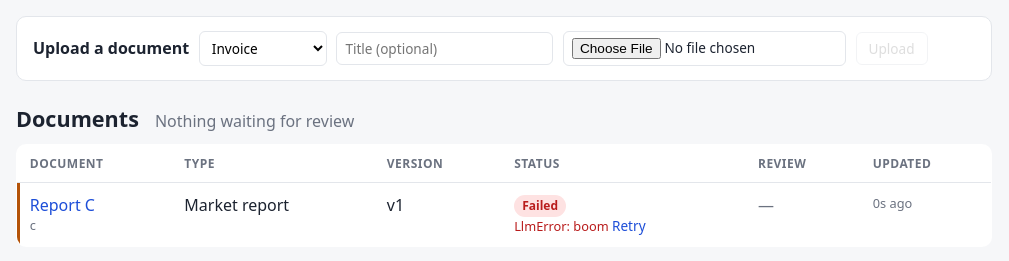
Scenario: retry is one click, one run › list: the row's Retry is disabled while in flight and a rapid double click sends one POST
The image size is (1009, 261).
Later steps or results of the test are not shown.
Double-click the button "Retry" at (629, 225), box [612, 216, 646, 235]
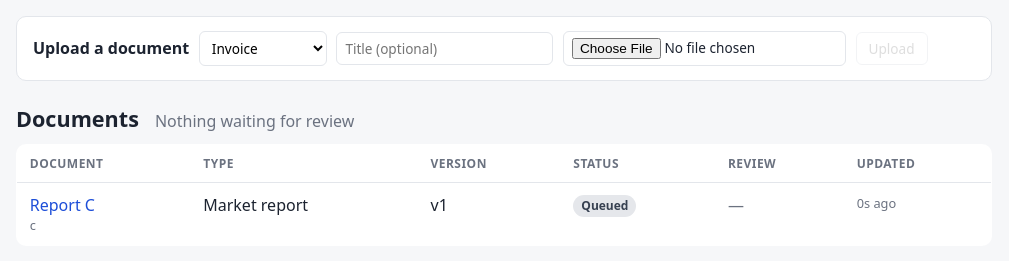
Expected: the text "Report C" shows "Queued", [581, 198, 628, 215]
Expected: the button "Retry" is gone
